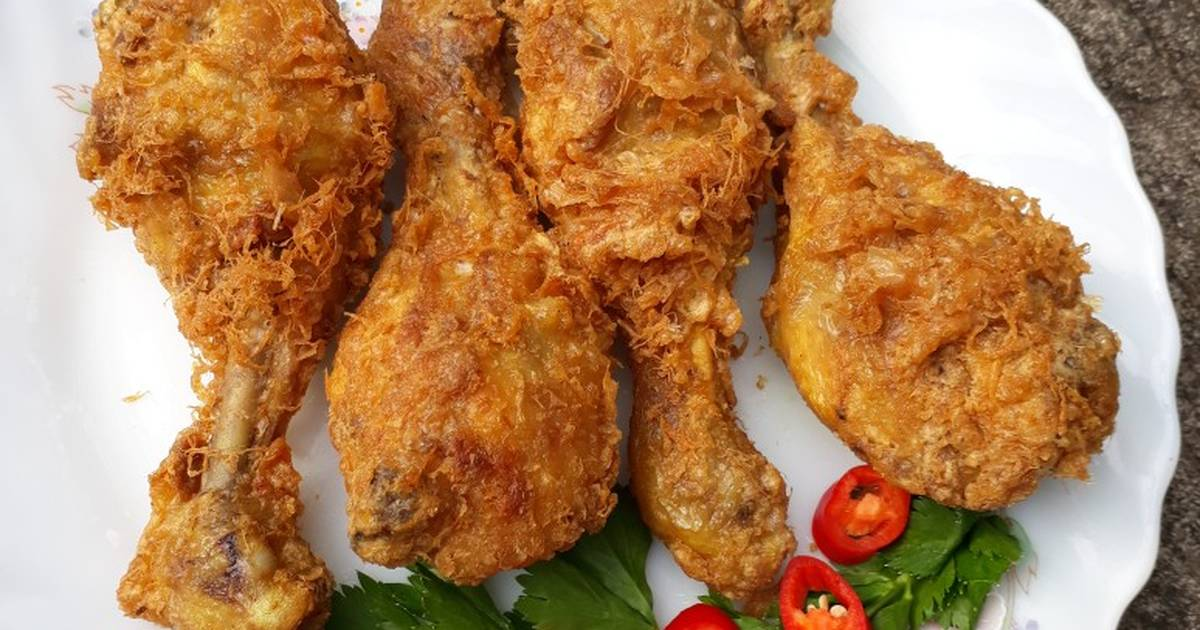Ayam: (740, 1, 1080, 519), (81, 1, 362, 617), (530, 1, 812, 585)
